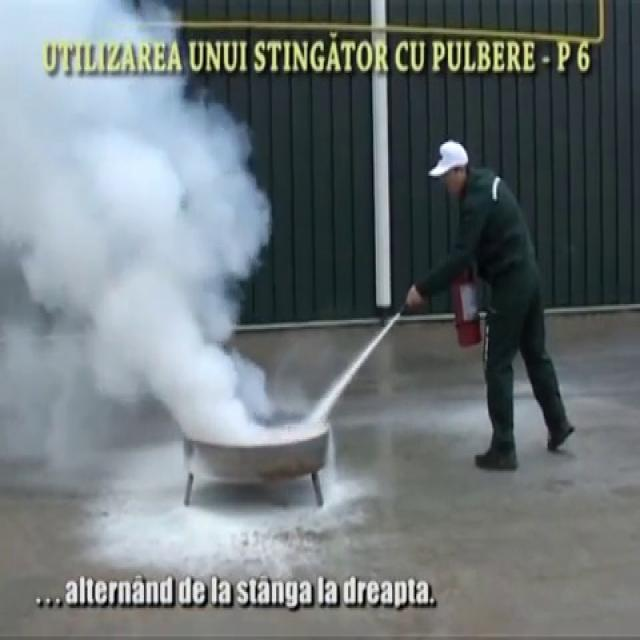Smoke: (0, 0, 288, 455)
